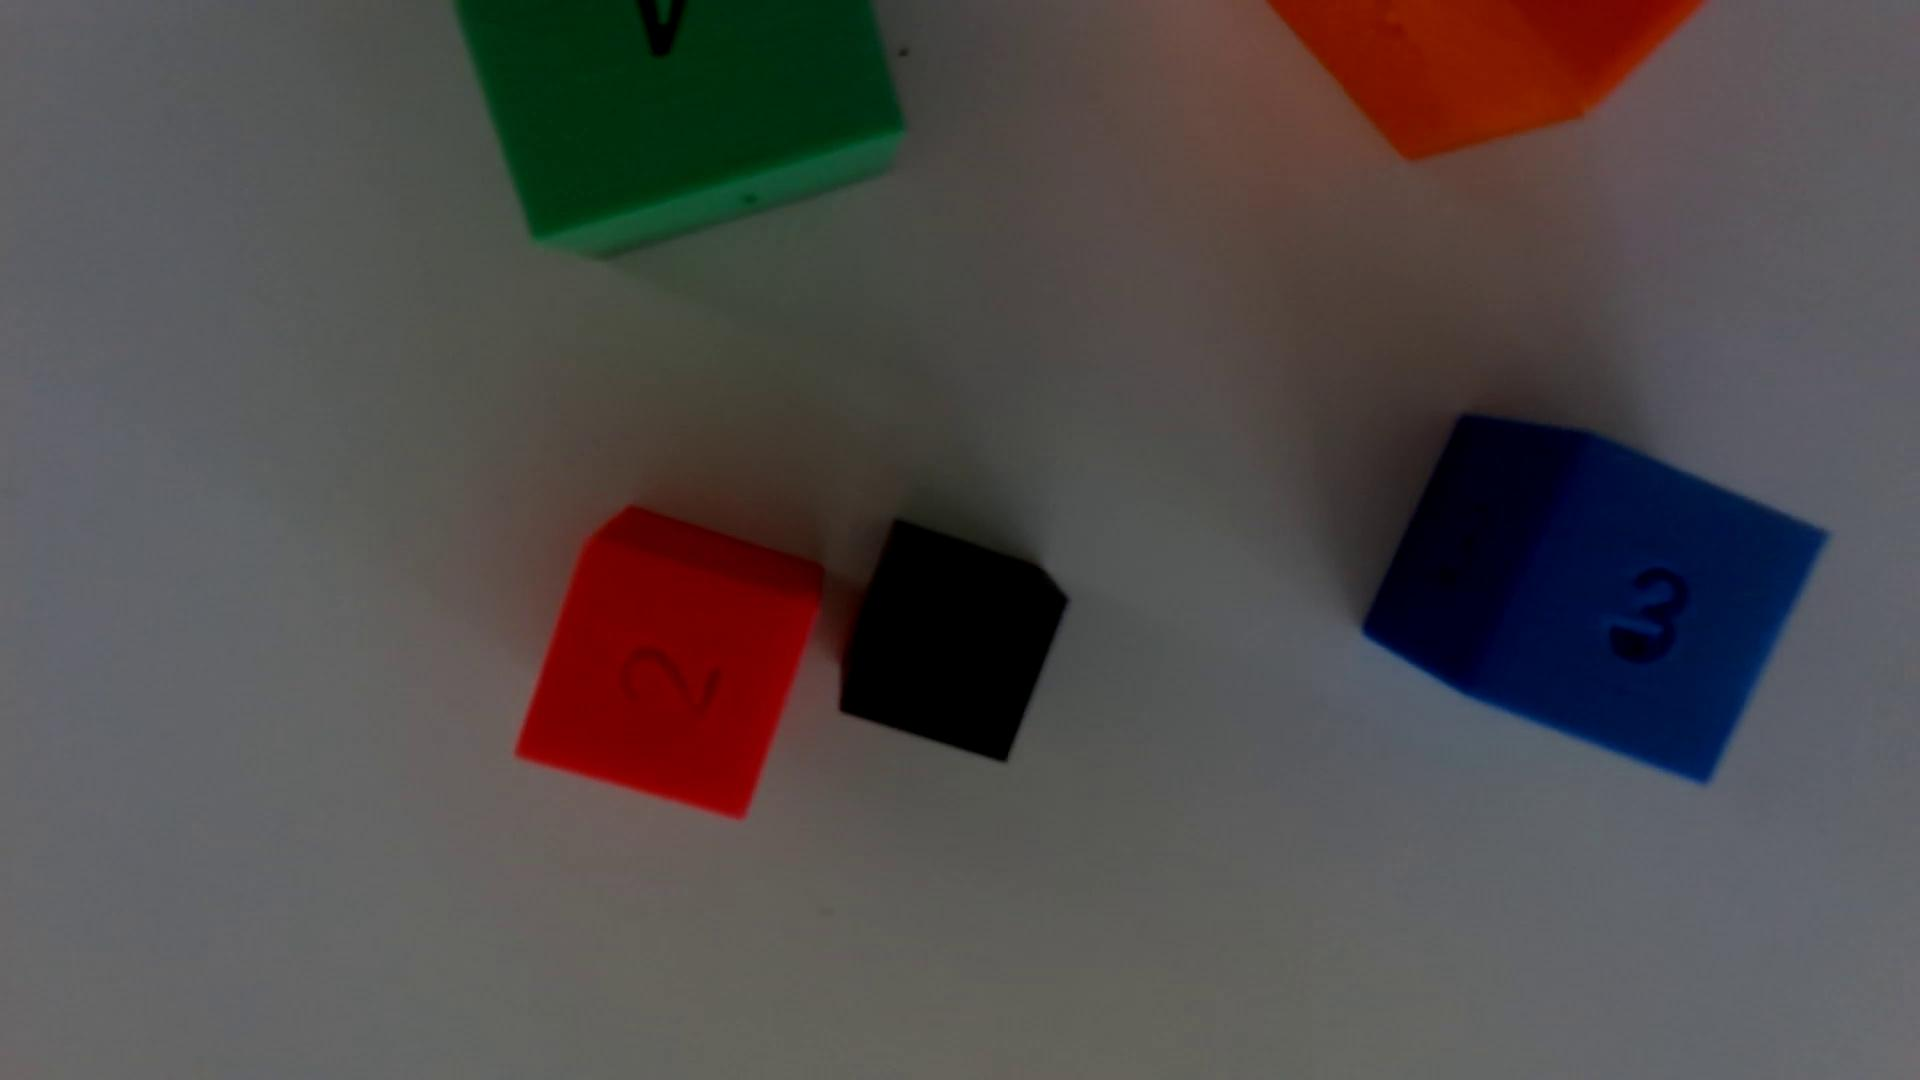black: (840, 520, 1068, 760)
blue: (1364, 415, 1826, 781)
green: (454, 0, 905, 255)
orange: (1270, 0, 1702, 158)
red: (517, 506, 822, 818)
